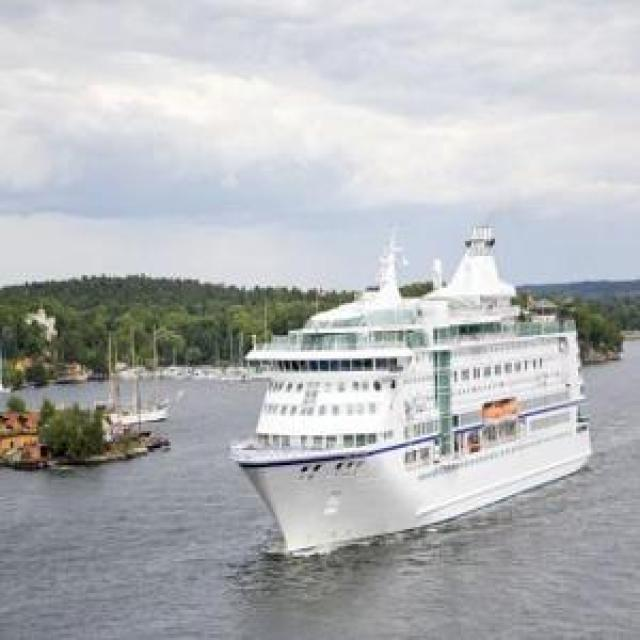passenger ship: (234, 238, 594, 553)
